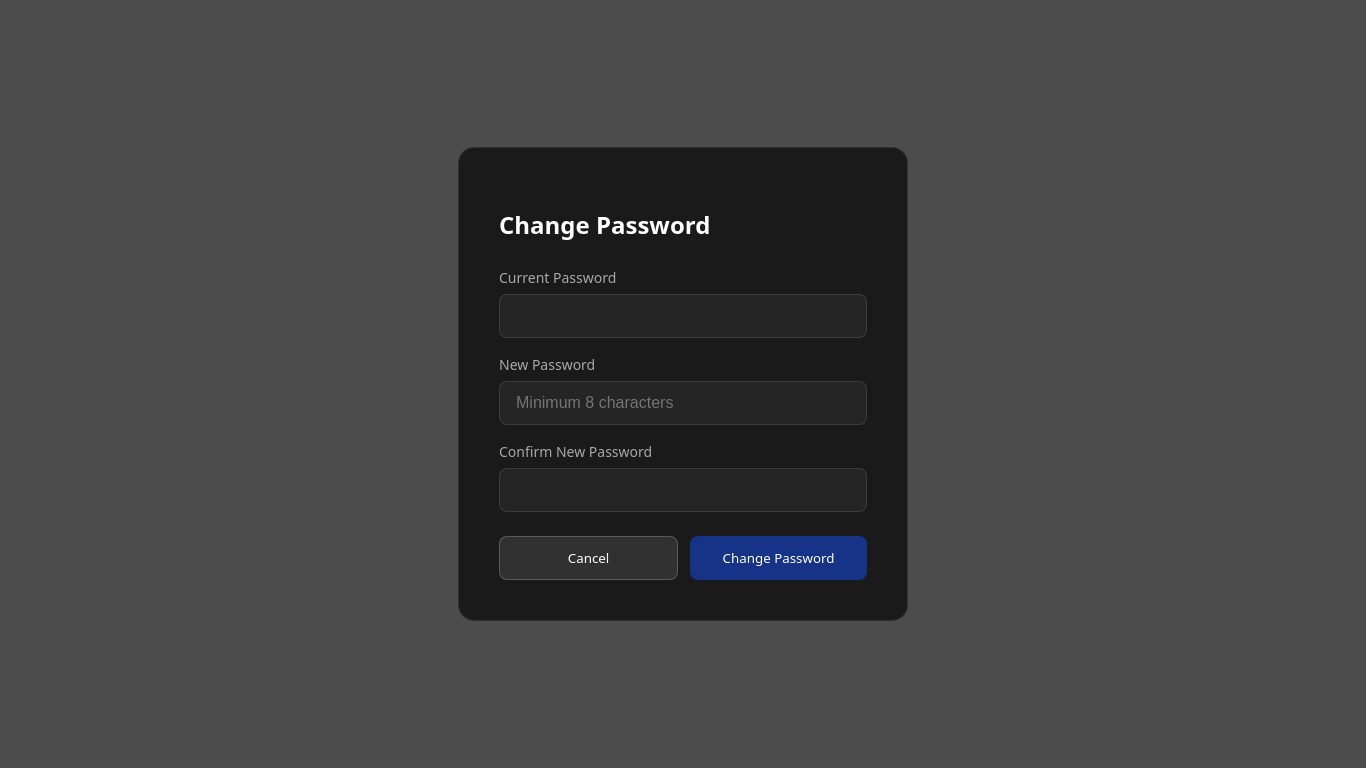
Test: ChangePasswordWizard — validation › shows an error when new password and confirmation do not match
The image size is (1366, 768).
Step 1. Type "old-password" into the password field below "Current Password" → (683, 316), box [499,294,867,338]
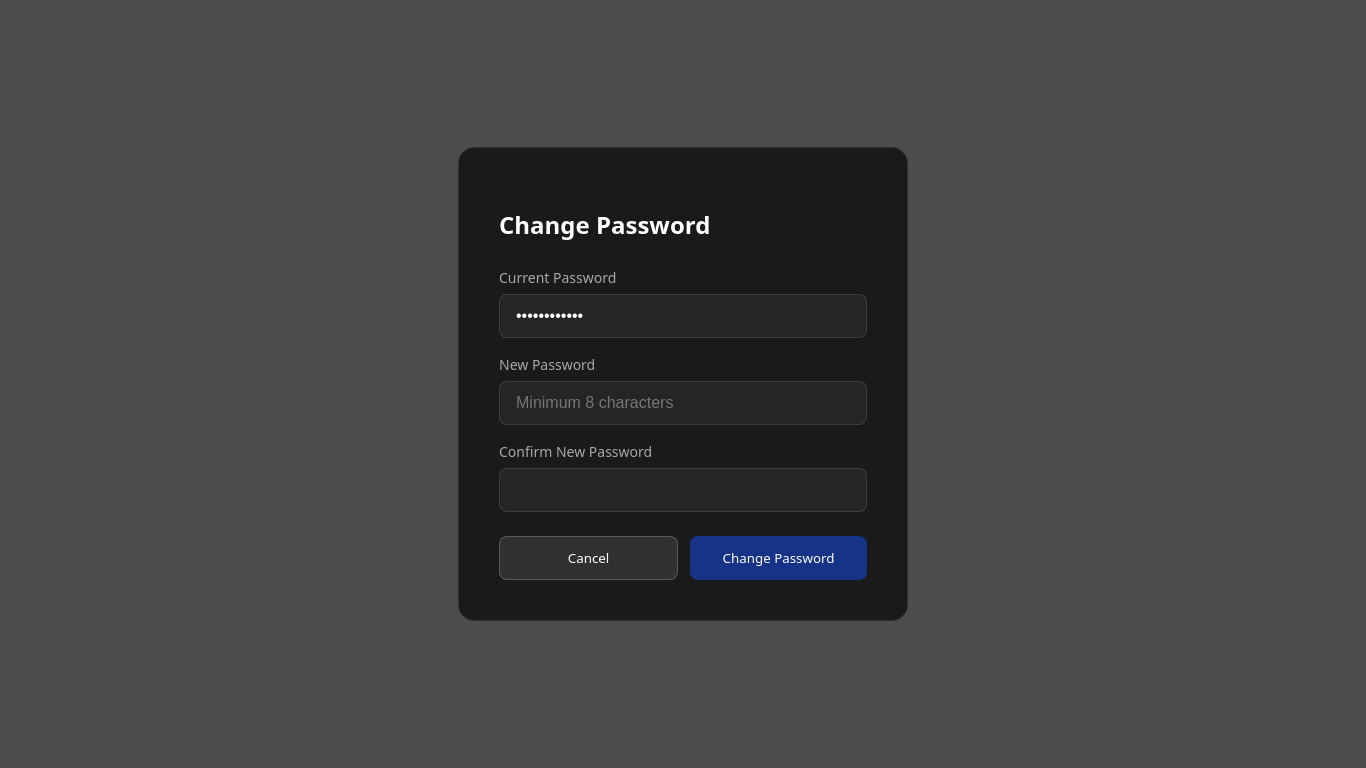
Step 2. Type "new-password-123" into the password field with placeholder "Minimum 8 characters" → (683, 404), box [499,382,867,426]
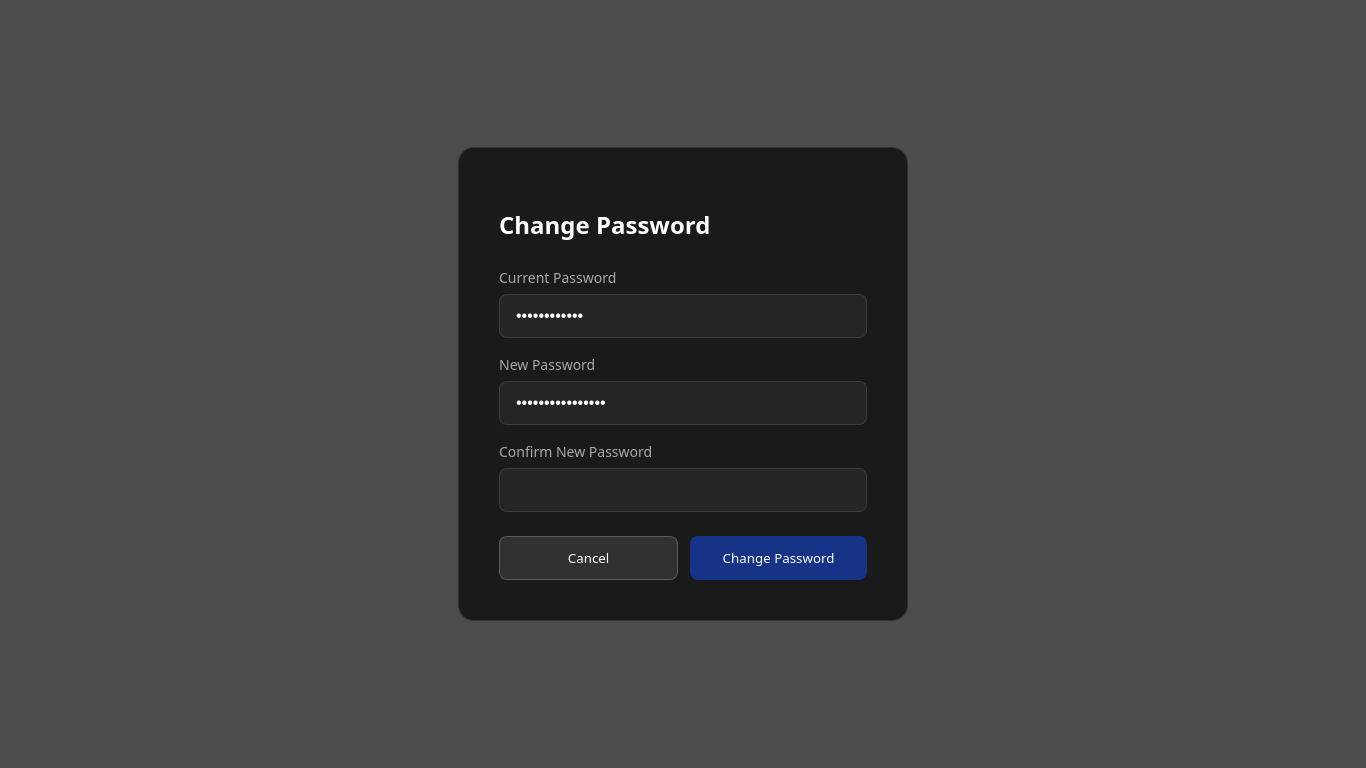
Step 3. Type "different-password-123" into the password field below "Confirm New Password" → (683, 490), box [499,468,867,512]
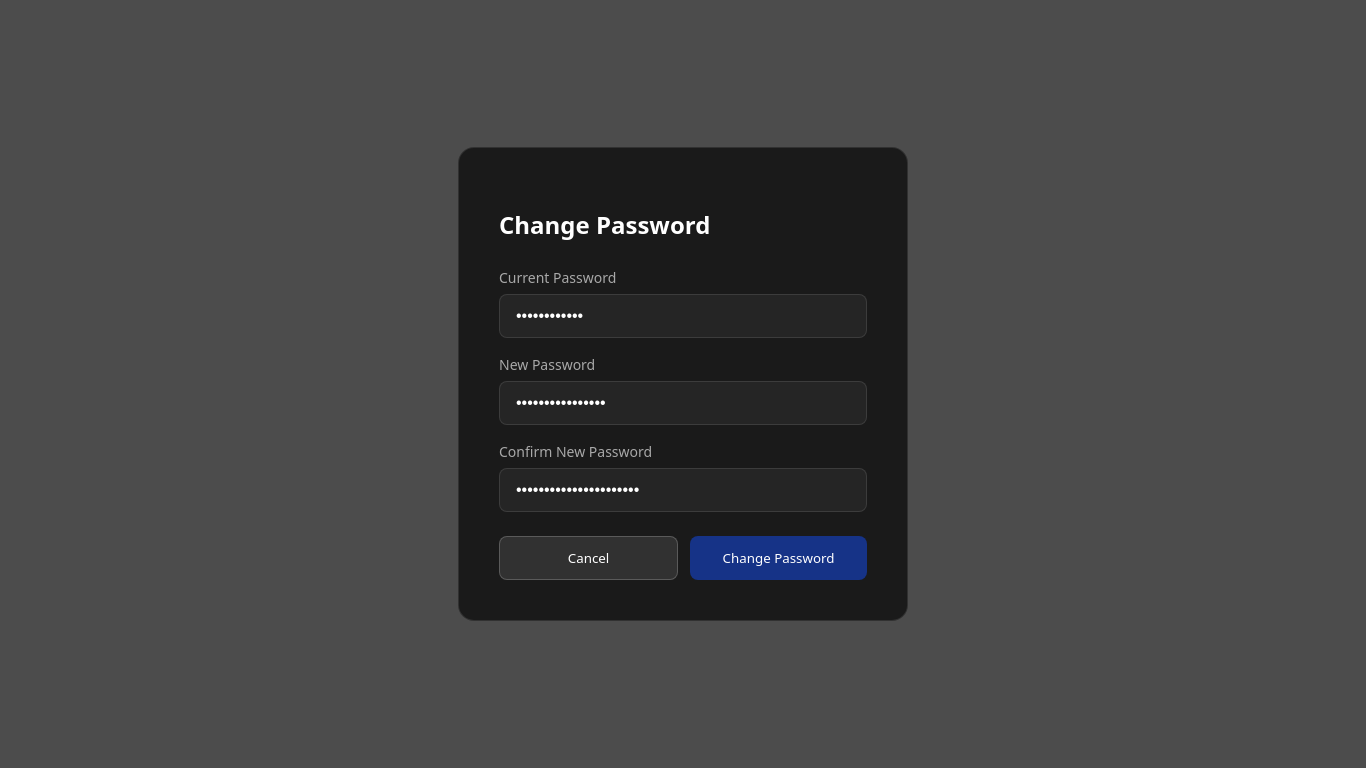
Step 4. Click the button "Change Password" → (778, 558), box [690,536,867,580]
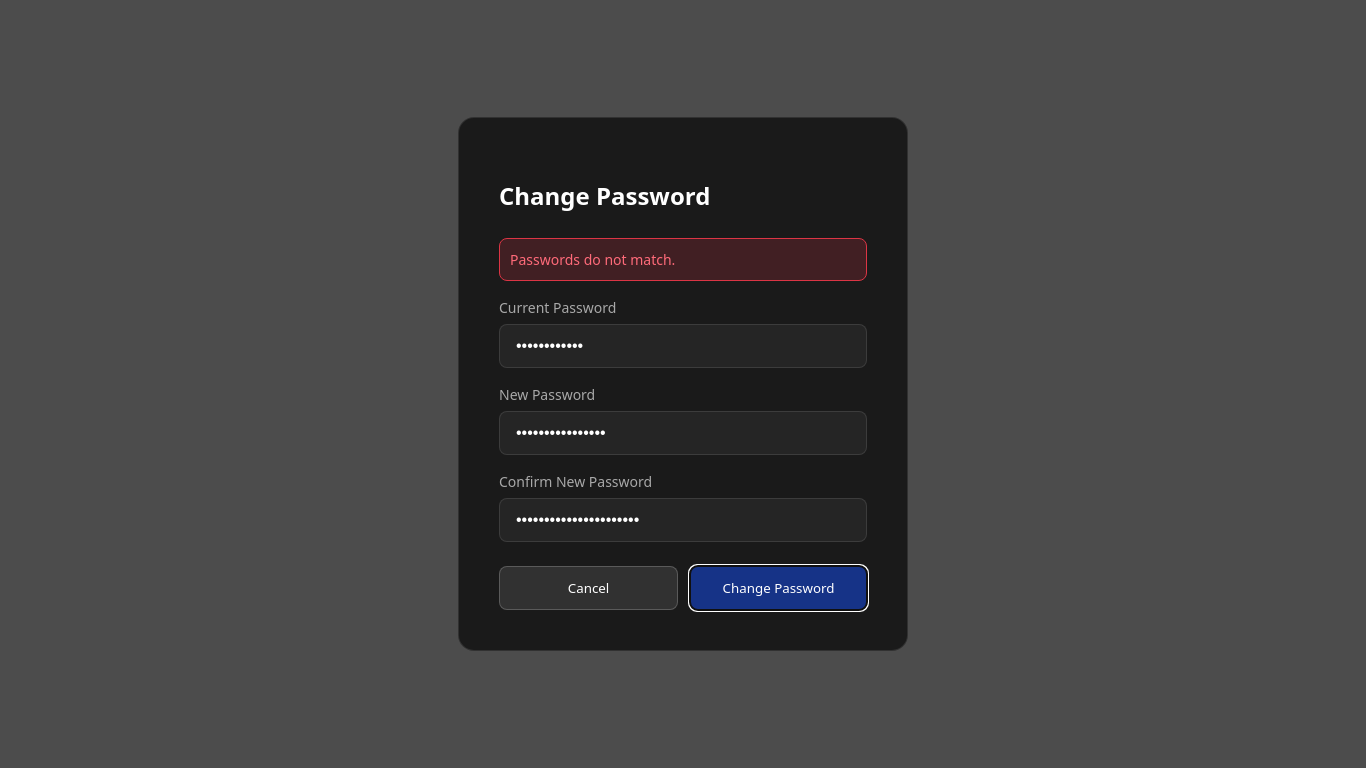
expect the text "Passwords do not match." is shown: met, box [499,238,867,281]
